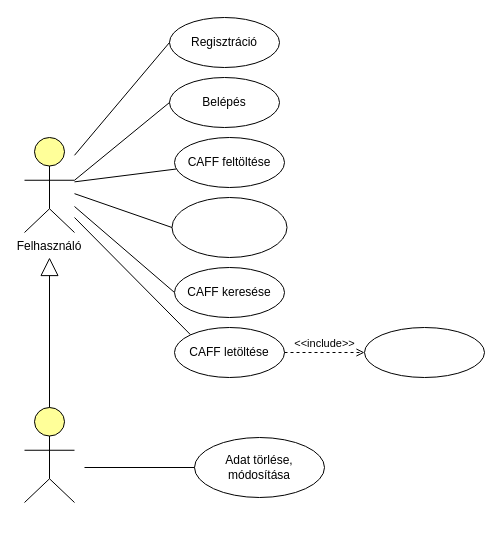
The diagram is 502 pixels wide and 541 high, and some of its shapes have lost their labels. Here are the shapes that lost their labels. From the top down, the centre of each, then its label:
At (x=229, y=227): "CAFF megjegyzés fűzése".
At (x=424, y=352): "CAFF vásárlása".
At (x=49, y=454): "Admin".
